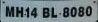character: (5, 5, 14, 17), (30, 6, 38, 18), (15, 6, 23, 17), (42, 7, 50, 18), (51, 7, 58, 18), (62, 6, 69, 17), (70, 6, 77, 17), (77, 6, 84, 17), (85, 5, 92, 16), (25, 5, 30, 18)
